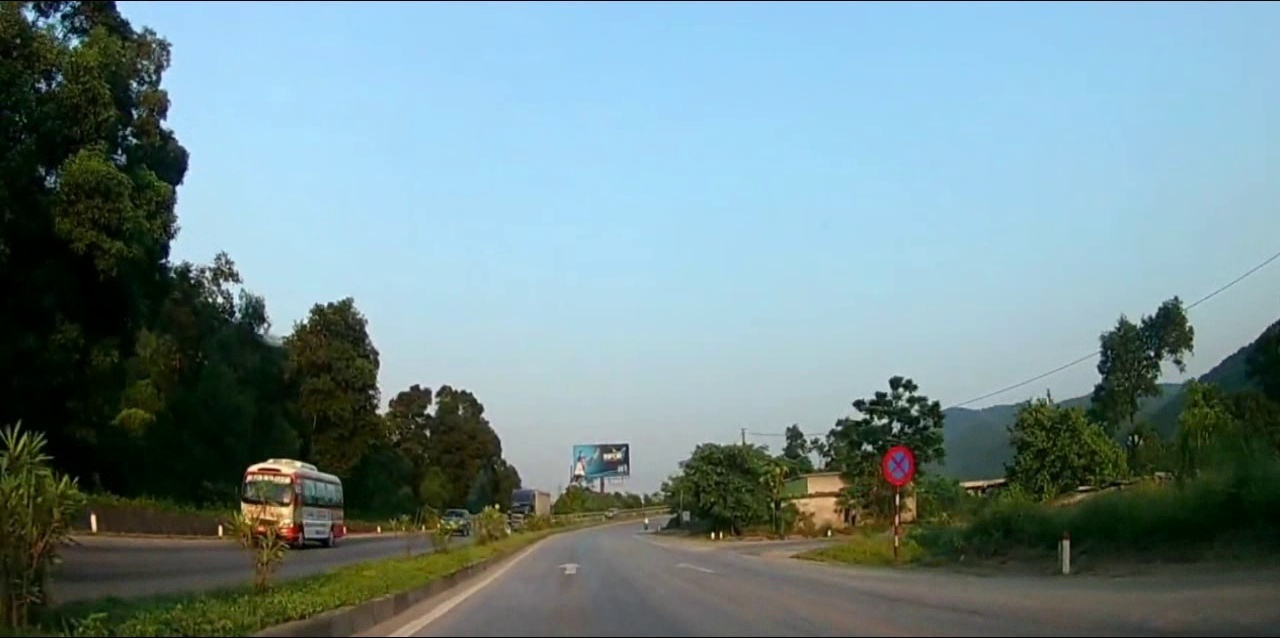Bien khac: (882, 444, 914, 487)
